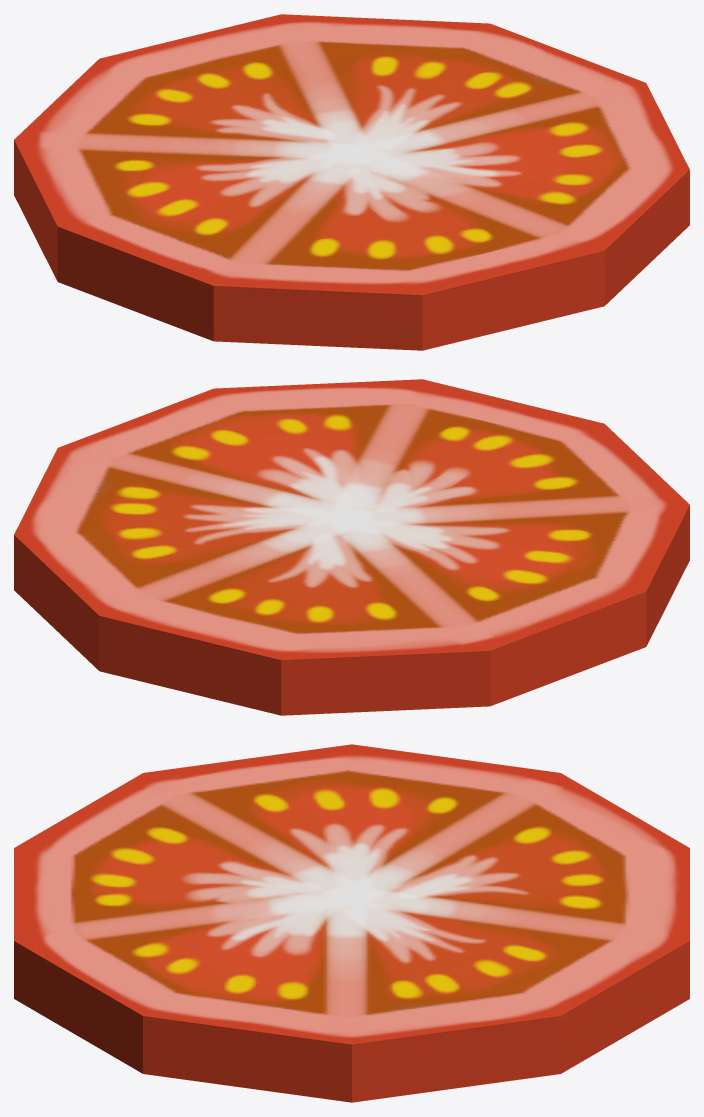
File: tomato_slice.FBX
The picture shows the model from 3 angles, top to bottom: view 1: azimuth 30°, elevation 25°; view 2: azimuth 150°, elevation 25°; view 3: azimuth 270°, elevation 25°; orthographic projection. The views are drawn at different scales.
Parts seen in each view (by area): view 1: Cylinder001; view 2: Cylinder001; view 3: Cylinder001.
Part boxes in pixels (box(x1,y1,x2,y2)): Cylinder001: box(14, 14, 689, 350); Cylinder001: box(14, 379, 689, 715); Cylinder001: box(14, 744, 689, 1102).
Bounding box in the file's own units: 20 × 1.8 × 19.02.
Materials: 1 (1 with a texture image).
